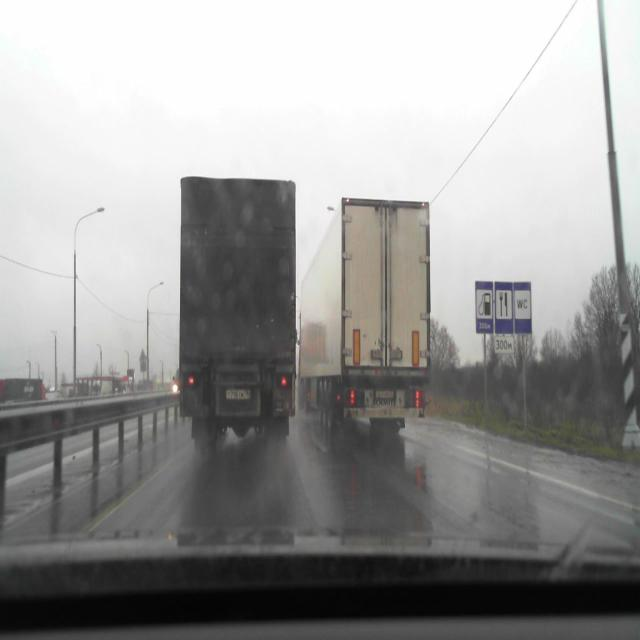object: (522, 335, 528, 434), (482, 334, 488, 422)
road sign: (494, 281, 513, 332), (475, 281, 494, 332), (514, 282, 532, 333), (495, 336, 514, 353)
